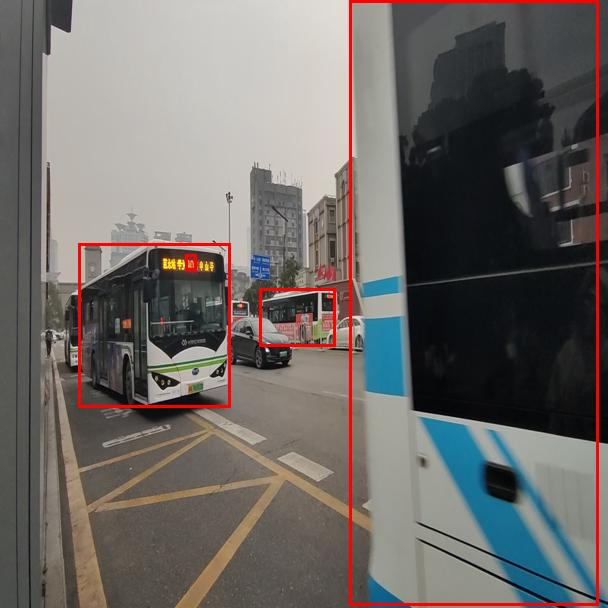bus: (349, 0, 598, 605), (78, 243, 230, 407), (259, 288, 335, 346)
screen: (185, 254, 196, 270)
